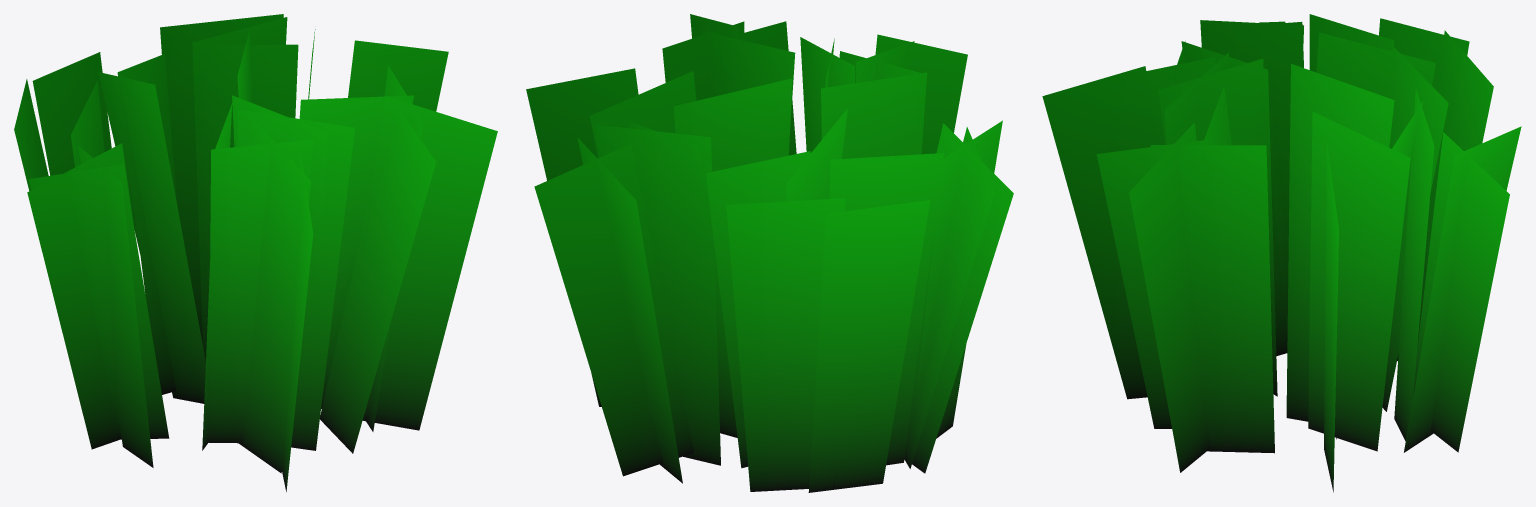
Rendered from IL3DN_Plant_Grass_03.fbx.
3 renders of one model, left to right at view 1: azimuth 30°, elevation 25°; view 2: azimuth 150°, elevation 25°; view 3: azimuth 270°, elevation 25°, orthographic. The views are drawn at different scales.
Visible parts, largest first — view 1: IL3DN_Plant_Grass_03_LOD0; view 2: IL3DN_Plant_Grass_03_LOD0; view 3: IL3DN_Plant_Grass_03_LOD0.
Part boxes in pixels (x1,y1,x2,y2): IL3DN_Plant_Grass_03_LOD0: [14, 14, 497, 491]; IL3DN_Plant_Grass_03_LOD0: [526, 14, 1013, 492]; IL3DN_Plant_Grass_03_LOD0: [1042, 14, 1521, 492].
Size of what is drawn, in the model's own units: 65.11 by 48.48 by 59.89.
